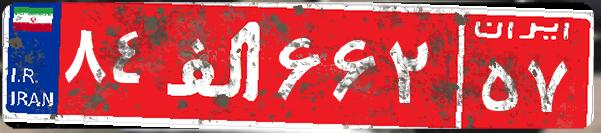2: (385, 28, 445, 110)
4: (110, 28, 158, 105)
5: (475, 38, 525, 113)
6: (273, 28, 330, 110), (330, 28, 385, 110)
7: (525, 38, 570, 115)
8: (57, 26, 110, 107)
الف: (158, 15, 273, 115)
